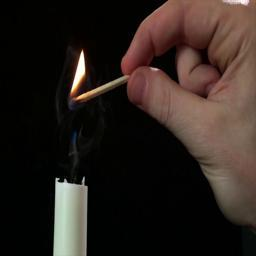fire: (70, 51, 87, 96)
